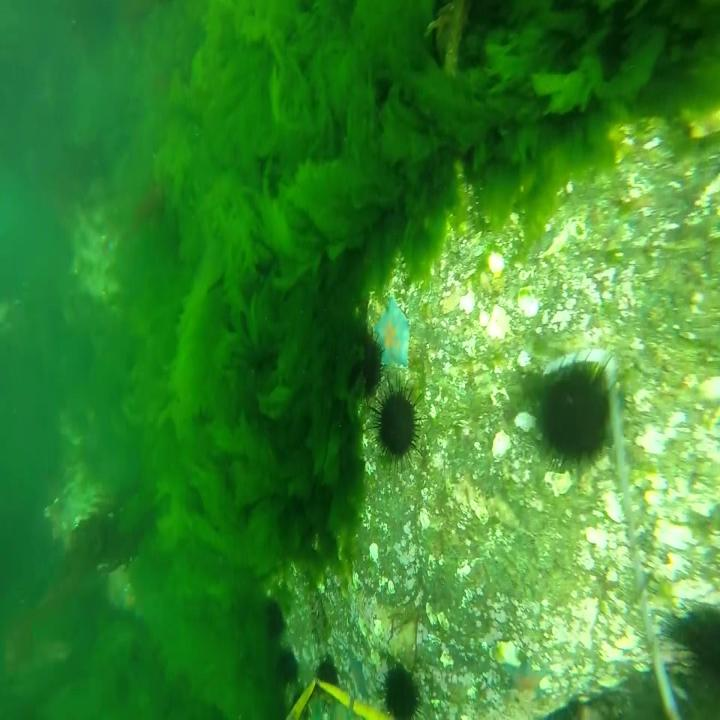echinus: (534, 345, 616, 482), (659, 596, 720, 706), (365, 373, 428, 477), (340, 322, 386, 402), (377, 658, 426, 720), (313, 655, 341, 696), (264, 596, 286, 641), (278, 646, 300, 687)
starfish: (369, 294, 413, 374), (503, 652, 549, 699)
